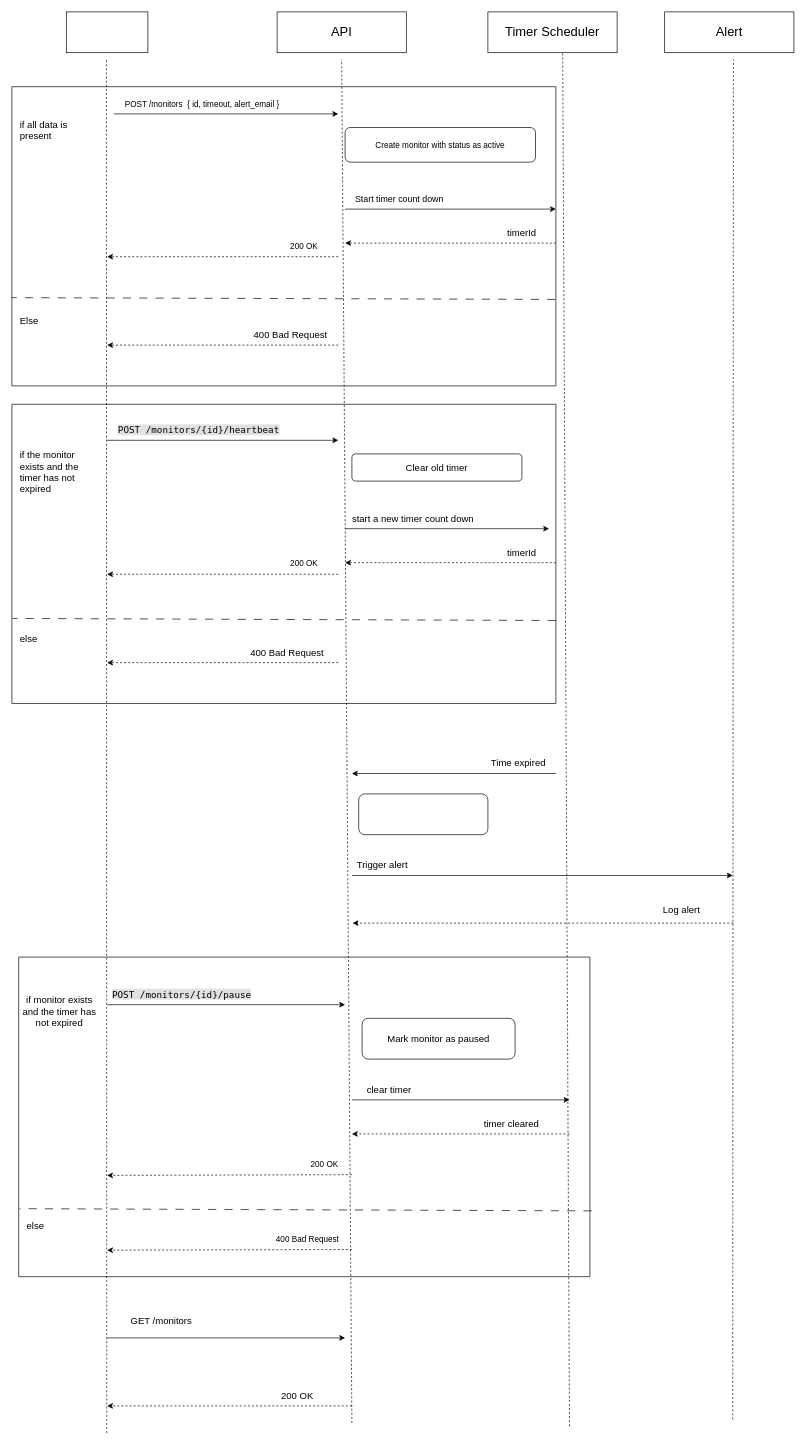
The diagram is 806 pixels wide and 1446 high, and some of its shapes have lost their labels. The shapes that lost their labels are listed below. From the top down, each one's centre as x and y in pixels, then its label:
the point at 107,32: Device/Admin
the point at 423,814: mark monitor as down
